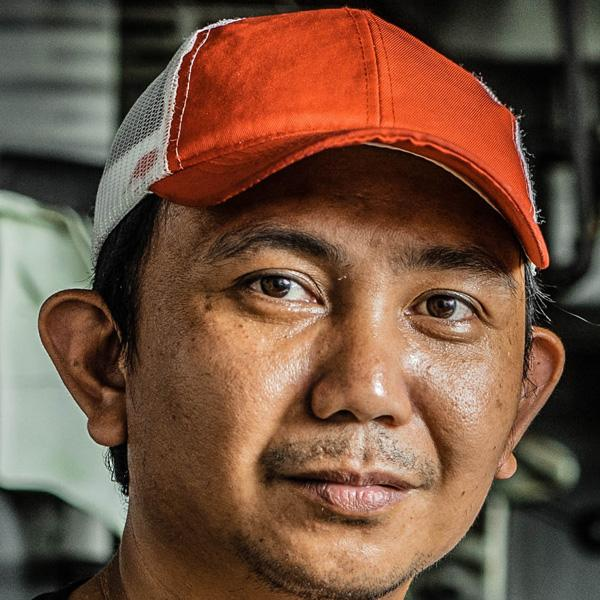Eyes: (216, 258, 336, 322), (402, 280, 492, 344)
